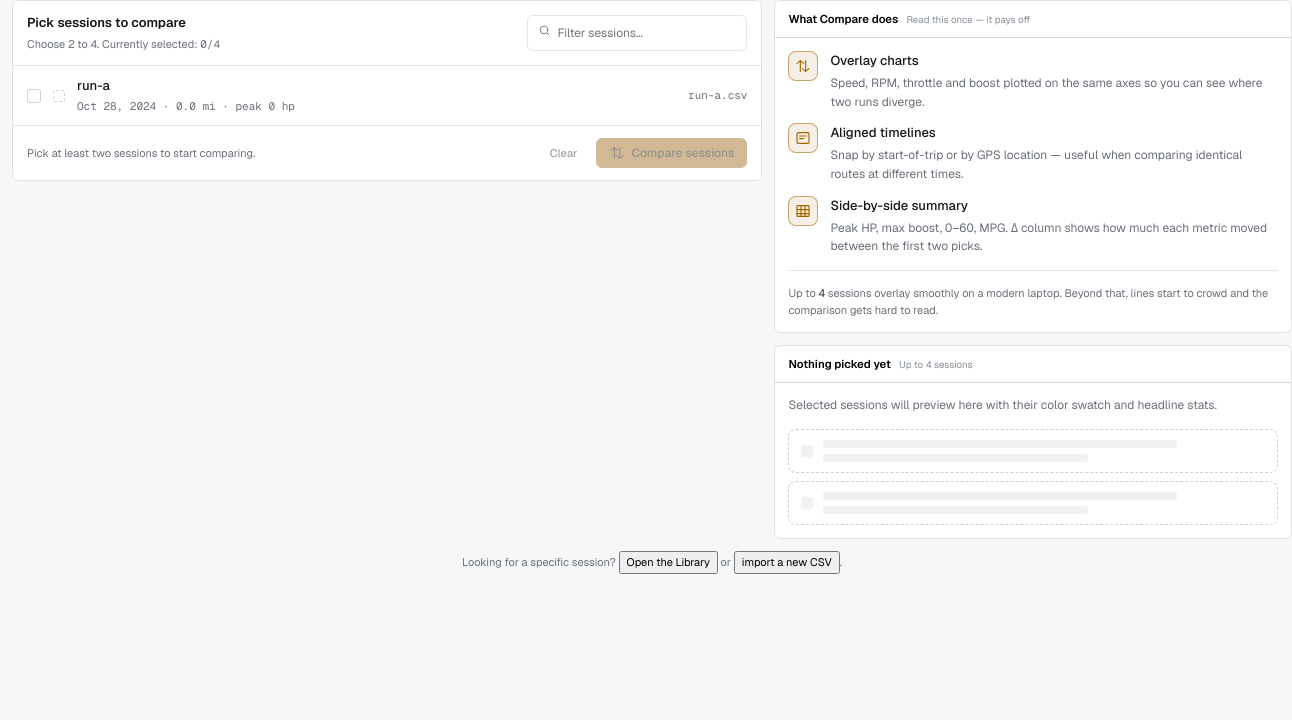
Scenario: pages/compare-logs/pick-stage › shows the no-match placeholder when search yields zero rows
Type "xyz" into the field with test id "picker-search" at (647, 33), box [557,20,736,46]
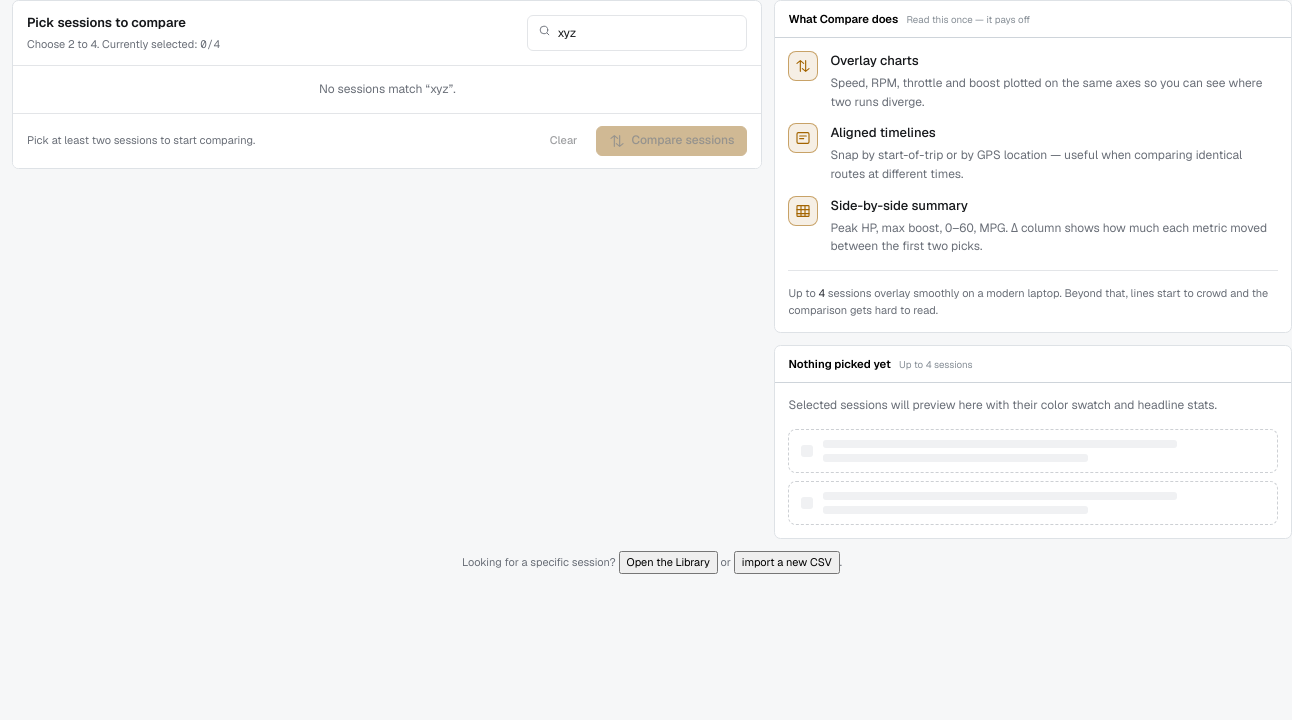
expect the text "No sessions match “xyz”." is shown: met, box [319,81,456,97]
